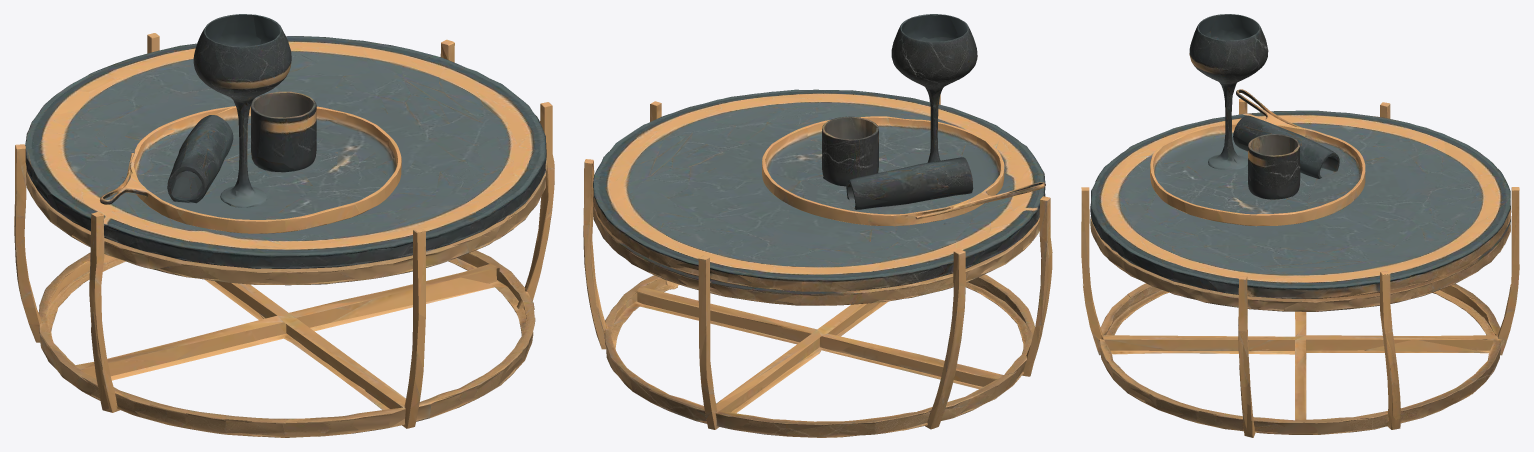
File: loungeCoffee.glb
The picture shows the model from 3 angles, left to right: view 1: azimuth 30°, elevation 25°; view 2: azimuth 150°, elevation 25°; view 3: azimuth 270°, elevation 25°; orthographic projection. The views are drawn at different scales.
Size of the model in its own units: 1.87 by 1.4 by 1.9.
1 material, 1 textured.
